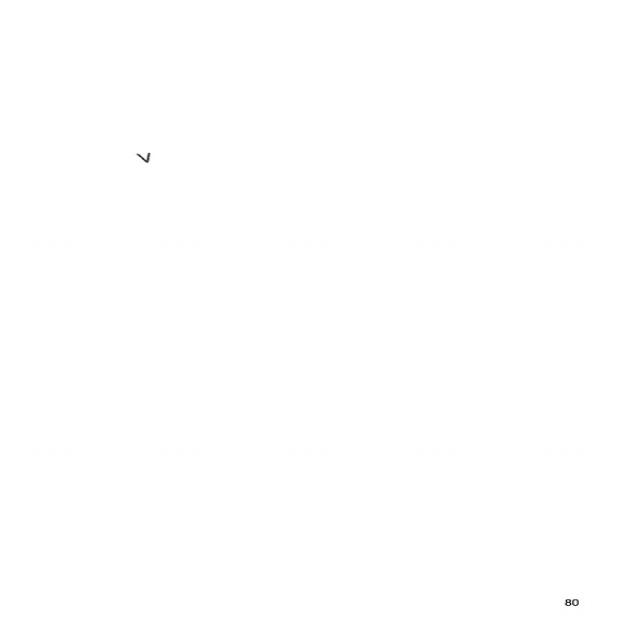7 -seven-: (134, 150, 154, 165)
